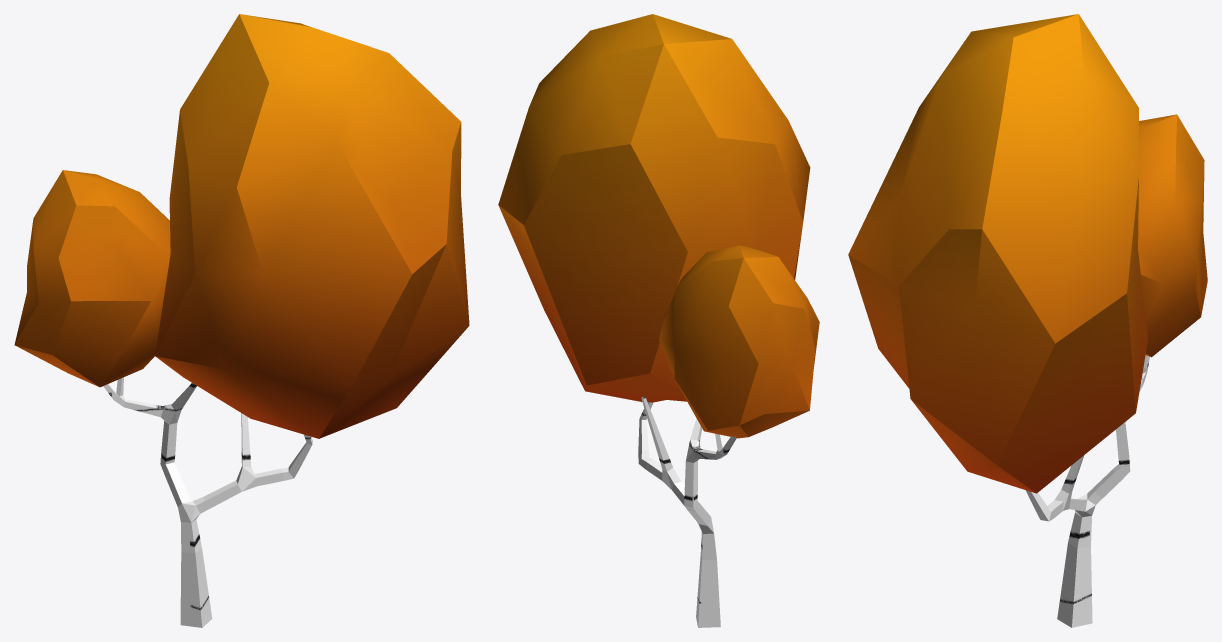
Rendered from tree2_unity.fbx.
3 renders of one model, left to right at view 1: azimuth 30°, elevation 25°; view 2: azimuth 150°, elevation 25°; view 3: azimuth 270°, elevation 25°, orthographic. The views are drawn at different scales.
Parts seen in each view (by area): view 1: Icosphere.001; view 2: Icosphere.001; view 3: Icosphere.001.
Boxes of the visible parts, x1,y1,x2,y2 form: Icosphere.001: [14, 14, 469, 627]; Icosphere.001: [498, 14, 819, 627]; Icosphere.001: [848, 14, 1207, 627].
Size of the model in its own units: 1377 by 2102 by 1086.
2 materials, 2 textured.
